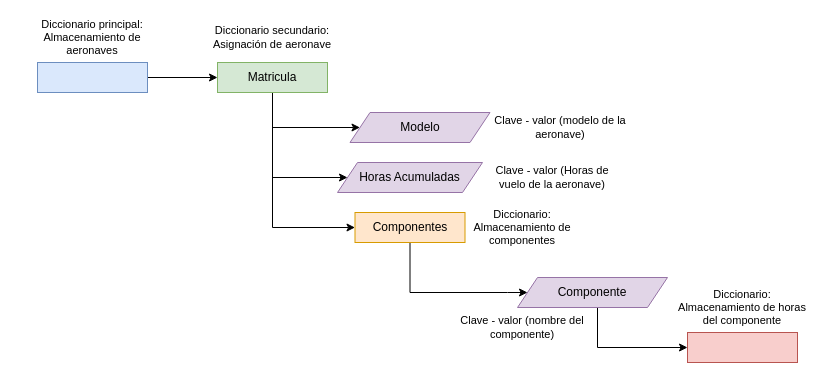
Image size: 824x380. Some labels were removed from this diagram. The shapes that lost their labels are listed below. From the top down, each one's box as (x1, y1, x2, y2) in pixels, then its label:
(36, 62, 148, 92): Flota
(686, 332, 798, 362): Horas
